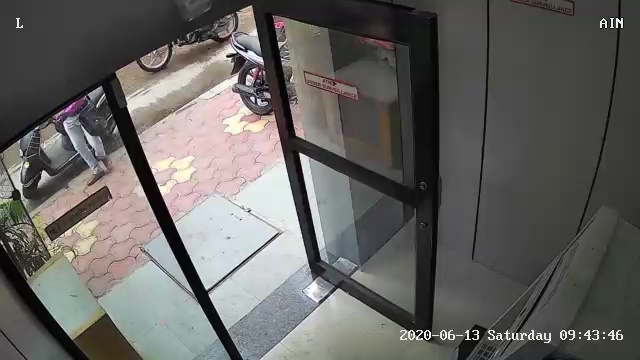open: (82, 1, 446, 360)
